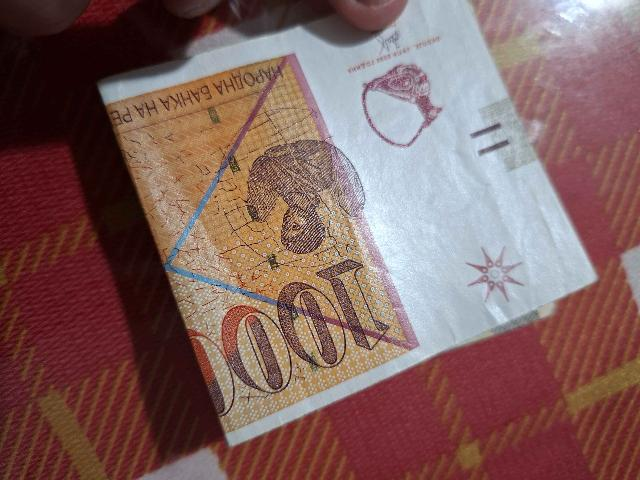note: (102, 0, 599, 449)
